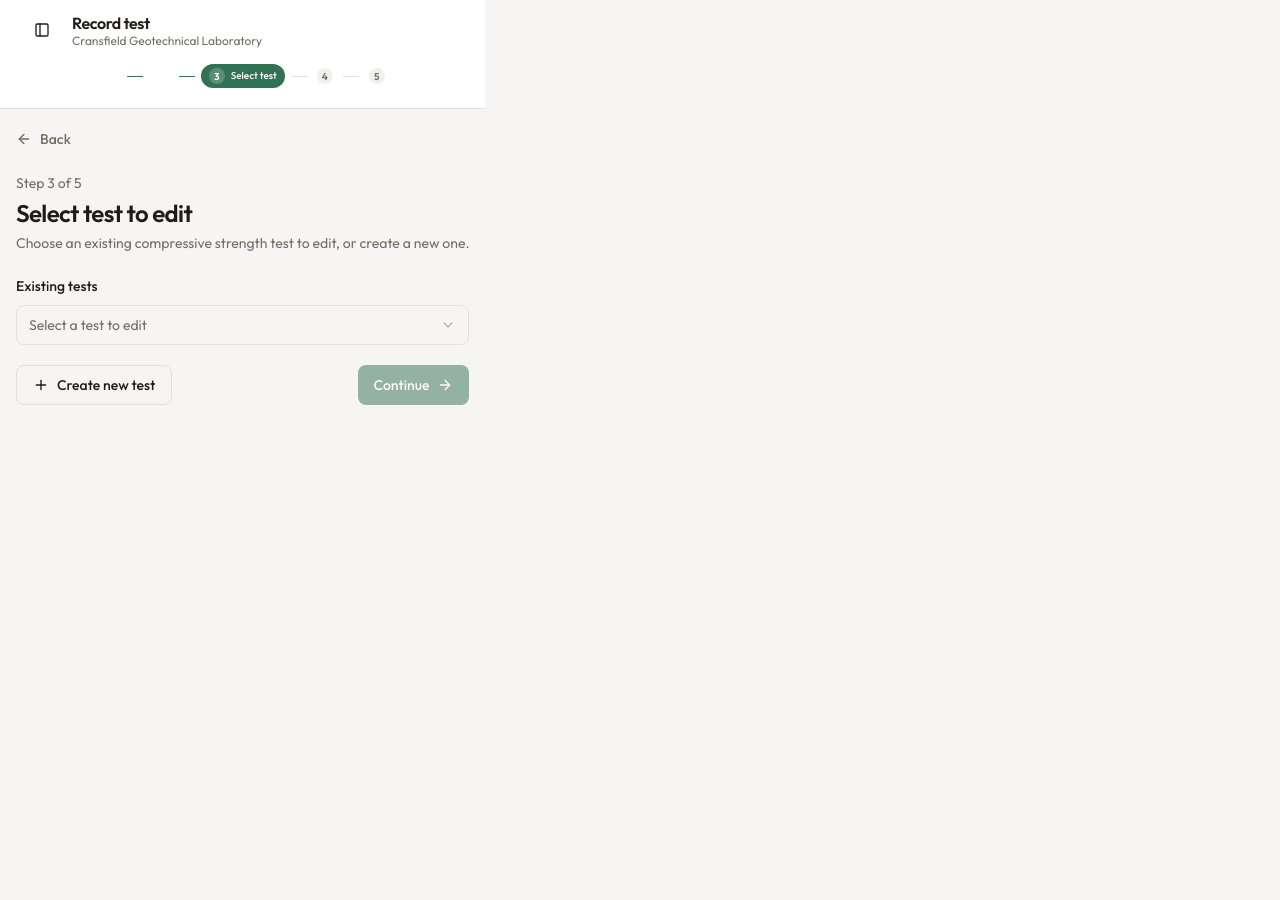
Scenario: RecordTestWizard selection flow › opens the new project form directly when creating a new compressive test
This screenshot has width=1280, height=900.
Expected: the heading "Select test to edit" is shown, left=16, top=198, right=192, bottom=228
What coordinates should you click on to do the following:
click the button "Create new test"
I would click on:
 (94, 385)
Its box is left=16, top=365, right=172, bottom=405.
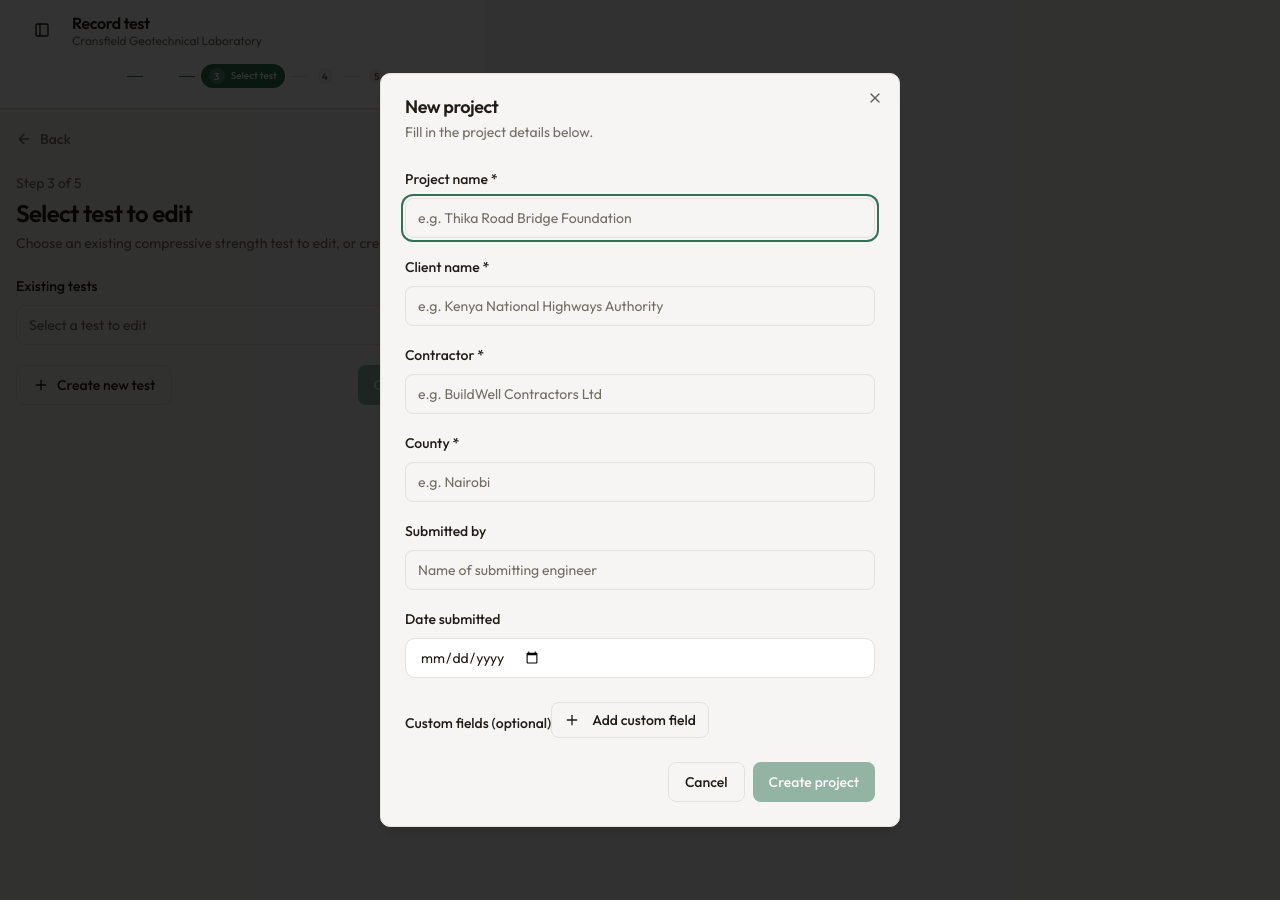
Result: the dialog shows "New project" at left=405, top=95, right=498, bottom=118
Result: the date field labelled "Date submitted" is shown at left=405, top=638, right=875, bottom=678
Result: the button "Create project" is disabled at left=753, top=762, right=875, bottom=802
What coordinates should you click on to do the following:
click the button "Cancel"
I would click on:
 (706, 782)
Its box is left=668, top=762, right=745, bottom=802.
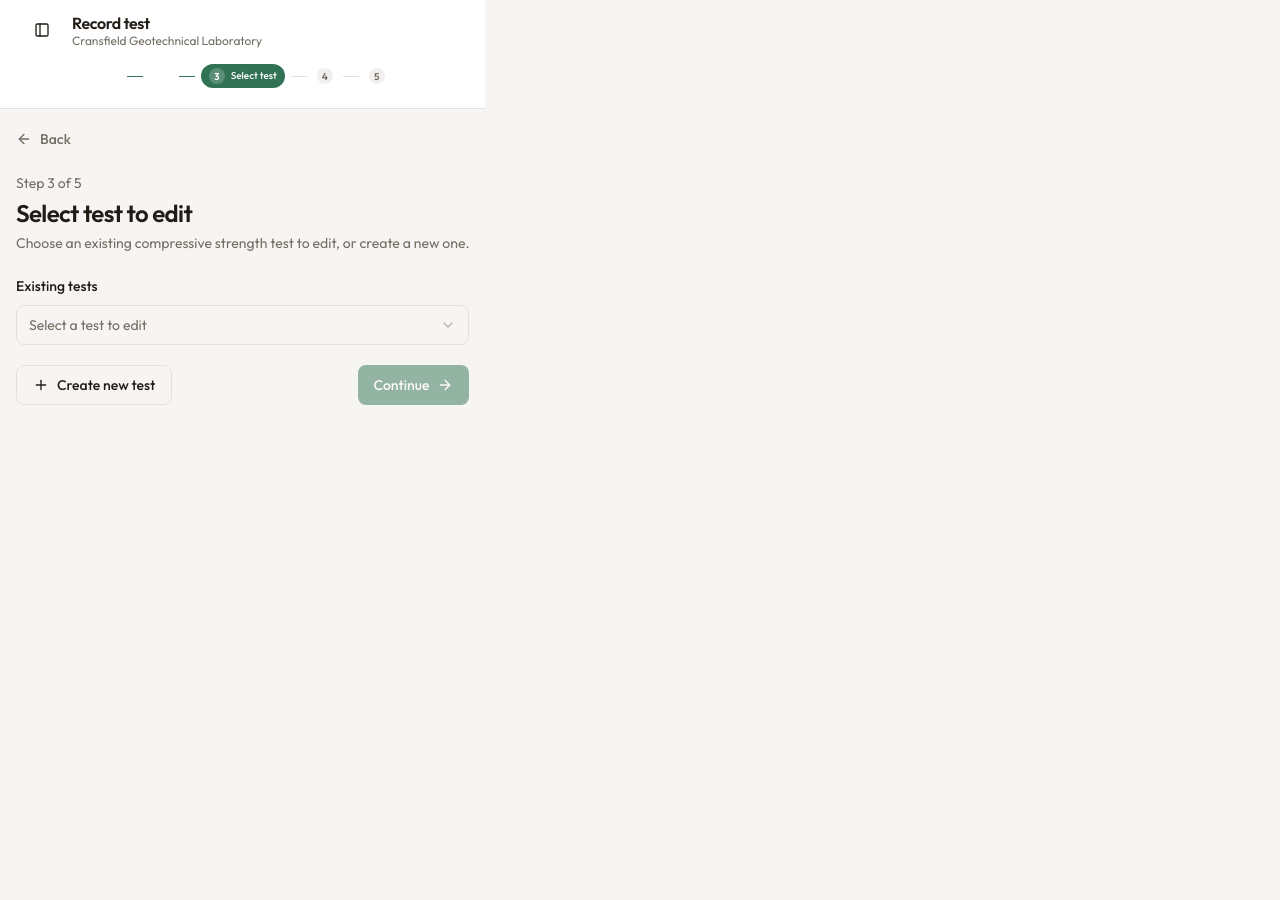
Expected: the heading "Select test to edit" is shown, left=16, top=198, right=192, bottom=228
What coordinates should you click on to do the following:
click the button "Create new test"
I would click on:
 (94, 385)
Its box is left=16, top=365, right=172, bottom=405.
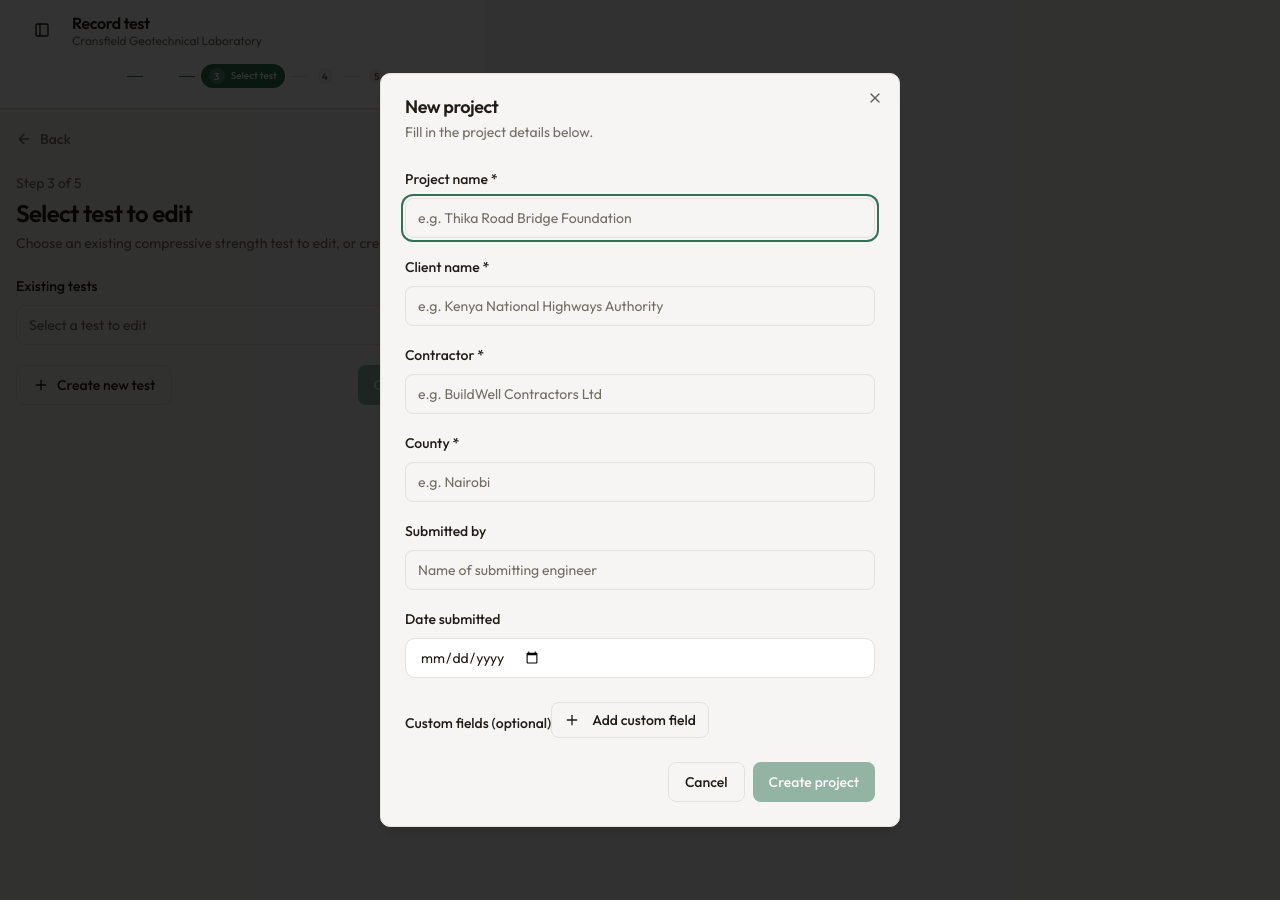
What coordinates should you click on to do the following:
click the button named "Close"
I would click on:
 (875, 98)
Its box is left=867, top=90, right=883, bottom=106.
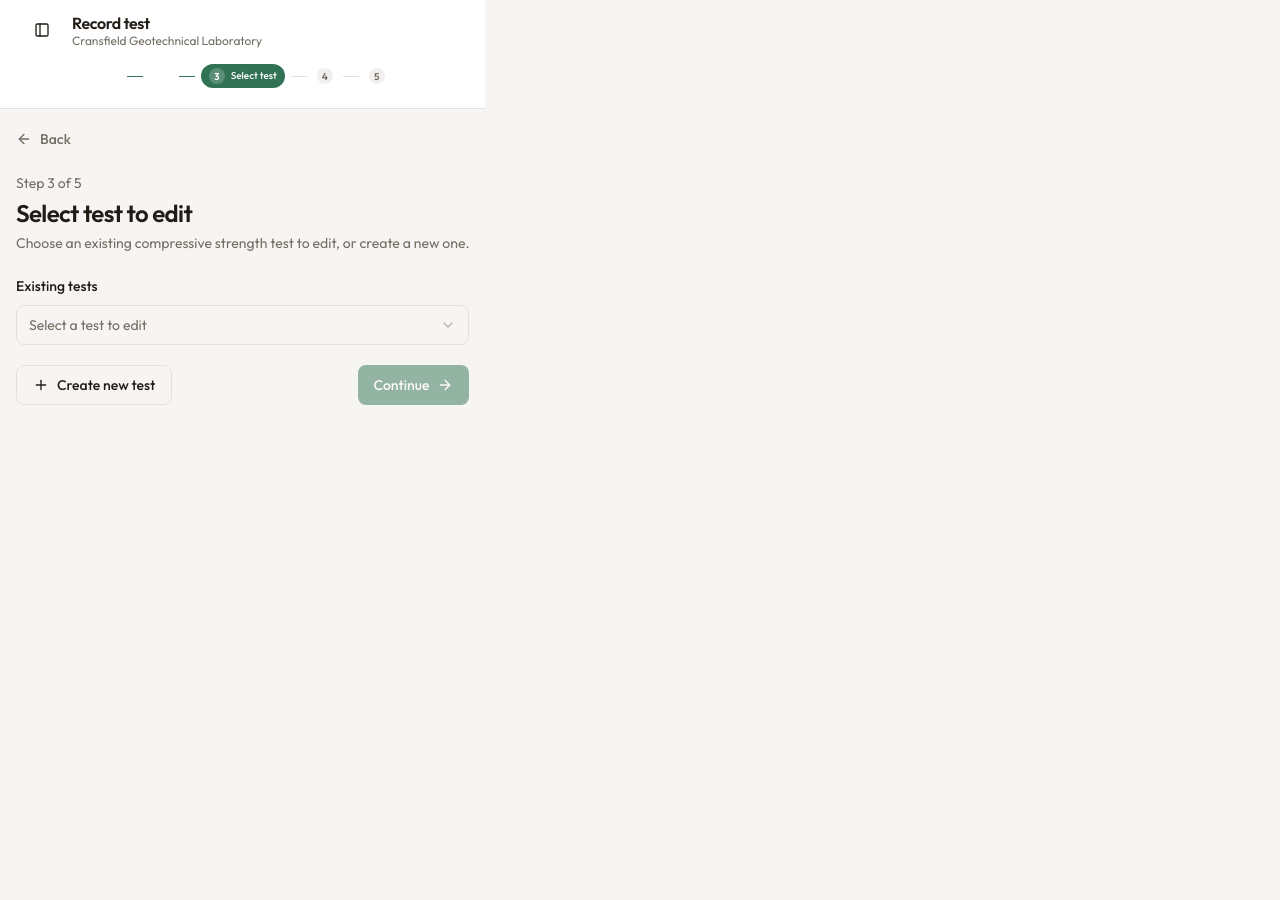
Result: the dialog is gone
